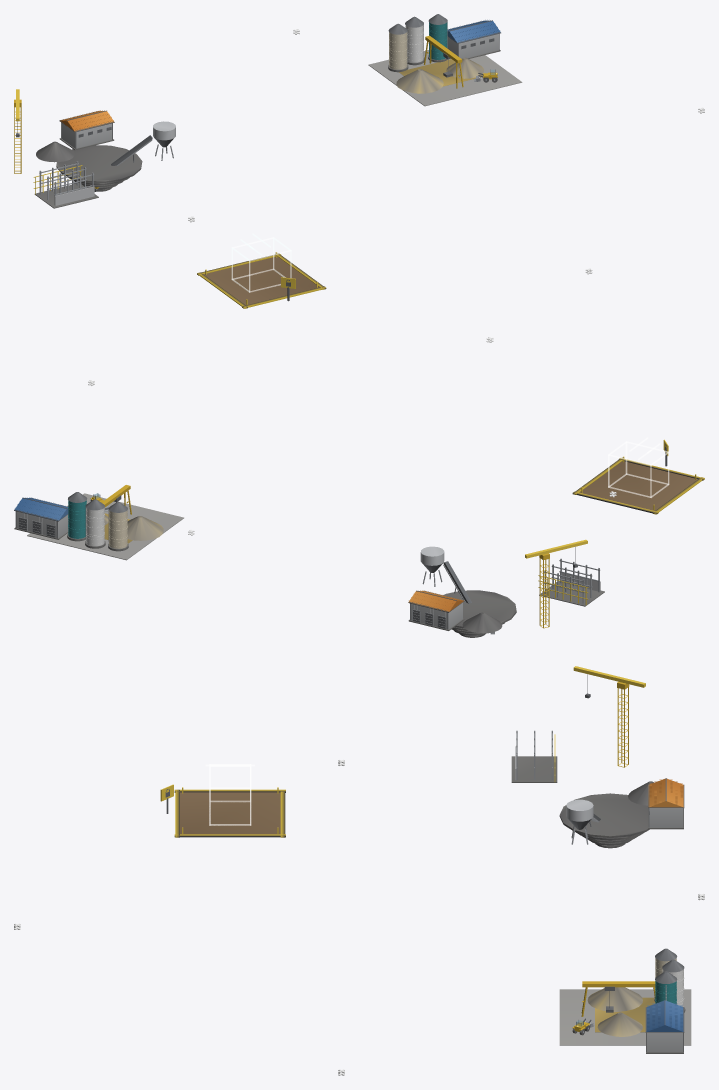
Rendered from Sites_P2.fbx.
3 views of the same model, one above another, from view 1: azimuth 30°, elevation 25°; view 2: azimuth 150°, elevation 25°; view 3: azimuth 270°, elevation 25° (orthographic). The views are drawn at different scales.
Parts seen in each view (by area): view 1: Site.plant.Pad, Site.Store.Yard, Site.Quarry.Benches, Site.Construction, Site.Store.Shed, Site.Quarry.Shed, Site.Store.Silo0, Site.Store.Pile0, Site.Store.Silo1, Site.plant.Ghost, Site.Store.Silo2, Site.Quarry.Heap (+4 smaller); view 2: Site.plant.Pad, Site.Store.Yard, Site.Store.Shed, Site.Construction, Site.Quarry.Shed, Site.Quarry.Benches, Site.Crane, Site.Store.Silo1, Site.Store.Silo0, Site.Store.Silo2, Site.plant.Ghost, Site.Store.Pile0 (+2 smaller); view 3: Site.plant.Pad, Site.Store.Yard, Site.Quarry.Benches, Site.Store.Shed, Site.Quarry.Shed, Site.Construction, Site.Crane, Site.Store.Pile0, Site.Store.Pile1, Site.Quarry.Hopper, Site.Store.Gantry, Site.Store.Silo2.
Part boxes in pixels (<box>): Site.plant.Pad: <box>197,252,326,308</box>; Site.Store.Yard: <box>368,50,522,106</box>; Site.Quarry.Benches: <box>56,145,142,191</box>; Site.Construction: <box>33,161,98,208</box>; Site.Store.Shed: <box>447,20,500,58</box>; Site.Quarry.Shed: <box>59,110,114,150</box>; Site.Store.Silo0: <box>388,23,408,72</box>; Site.Store.Pile0: <box>396,69,443,93</box>; Site.Store.Silo1: <box>405,16,424,65</box>; Site.plant.Ghost: <box>231,233,291,292</box>; Site.Store.Silo2: <box>428,14,447,62</box>; Site.Quarry.Heap: <box>36,141,74,162</box>; Site.plant.Pad: <box>572,456,704,514</box>; Site.Store.Yard: <box>27,493,183,560</box>; Site.Store.Shed: <box>14,497,68,539</box>; Site.Construction: <box>538,558,604,606</box>; Site.Quarry.Shed: <box>408,590,464,630</box>; Site.Quarry.Benches: <box>443,590,516,637</box>; Site.Crane: <box>525,539,587,628</box>; Site.Store.Silo1: <box>85,499,105,548</box>; Site.Store.Silo0: <box>108,501,128,551</box>; Site.Store.Silo2: <box>67,492,87,541</box>; Site.plant.Ghost: <box>608,437,669,497</box>; Site.Store.Pile0: <box>127,516,163,540</box>; Site.plant.Pad: <box>174,787,285,837</box>; Site.Store.Yard: <box>559,989,691,1045</box>; Site.Quarry.Benches: <box>559,793,649,848</box>; Site.Store.Shed: <box>645,1000,684,1053</box>; Site.Quarry.Shed: <box>648,778,684,829</box>; Site.Construction: <box>511,730,557,782</box>; Site.Crane: <box>573,666,645,767</box>; Site.Store.Pile0: <box>587,987,642,1011</box>; Site.Store.Pile1: <box>597,1012,642,1036</box>; Site.Quarry.Hopper: <box>566,799,593,844</box>; Site.Store.Gantry: <box>581,981,655,1016</box>; Site.Store.Silo2: <box>655,971,677,1004</box>.
Bounding box in the file's own units: 31353 × 5205 × 27269.
